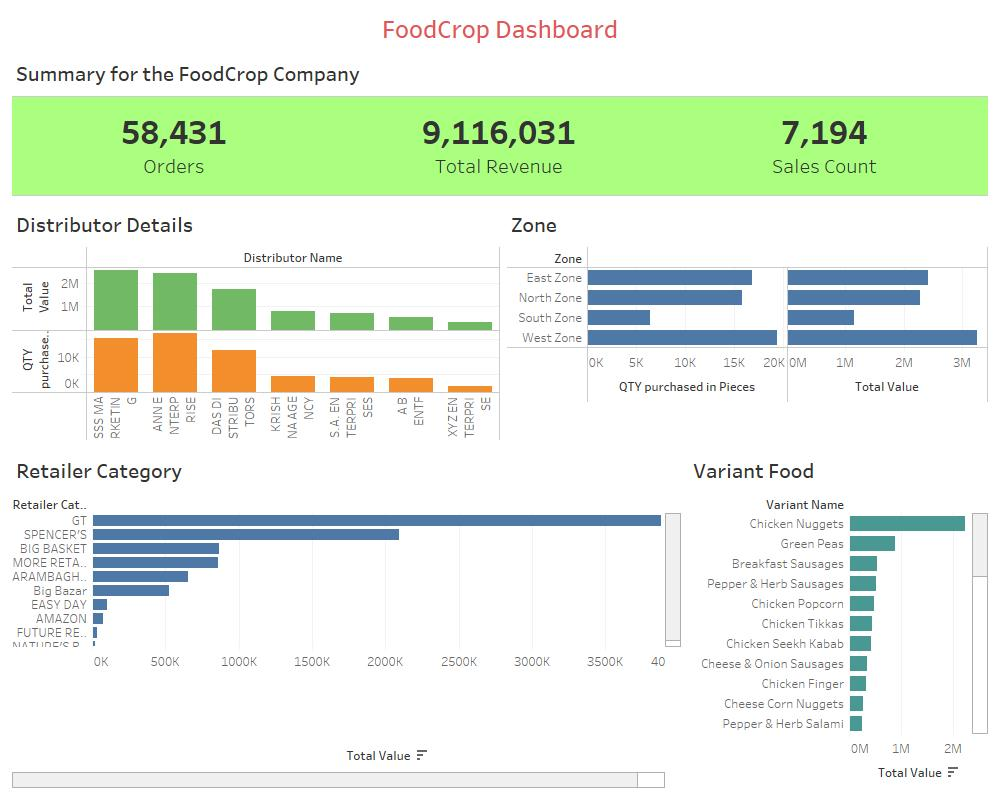

The dashboard page shown, as its layout file describes it:
{"tool":"tableau","page":{"name":"Dashboard 1","canvas":[1000,800],"ordinal":0},"visuals":[{"type":"text","box":[8,8,984,41]},{"type":"worksheet","title":"Sheet 8","mark":"Automatic","box":[8,49,984,151]},{"type":"worksheet","title":"Sheet 3","mark":"Automatic","rows":["TOTAL_VALUE","QTY purchased in Pieces"],"cols":["Distributor_Name"],"box":[8,200,495,246]},{"type":"worksheet","title":"Sheet 2","mark":"Automatic","rows":["ZONE"],"cols":["QTY purchased in Pieces","TOTAL_VALUE"],"box":[503,200,489,246]},{"type":"worksheet","title":"Sheet 1","mark":"Automatic","rows":["Retailer_Category"],"cols":["TOTAL_VALUE"],"box":[8,446,657,346]},{"type":"worksheet","title":"Sheet 4","mark":"Automatic","rows":["Variant_Name"],"cols":["TOTAL_VALUE"],"box":[665,446,327,346]}]}

Visuals, with their boxes in screenshot pixels (x1, y1, x2, y2), scaled from the page's 1000x800 canvas onto the 1000x800 screenshot:
text: 8,8,992,49
"Sheet 8" worksheet: 8,49,992,200
"Sheet 3" worksheet: 8,200,503,446
"Sheet 2" worksheet: 503,200,992,446
"Sheet 1" worksheet: 8,446,665,792
"Sheet 4" worksheet: 665,446,992,792
